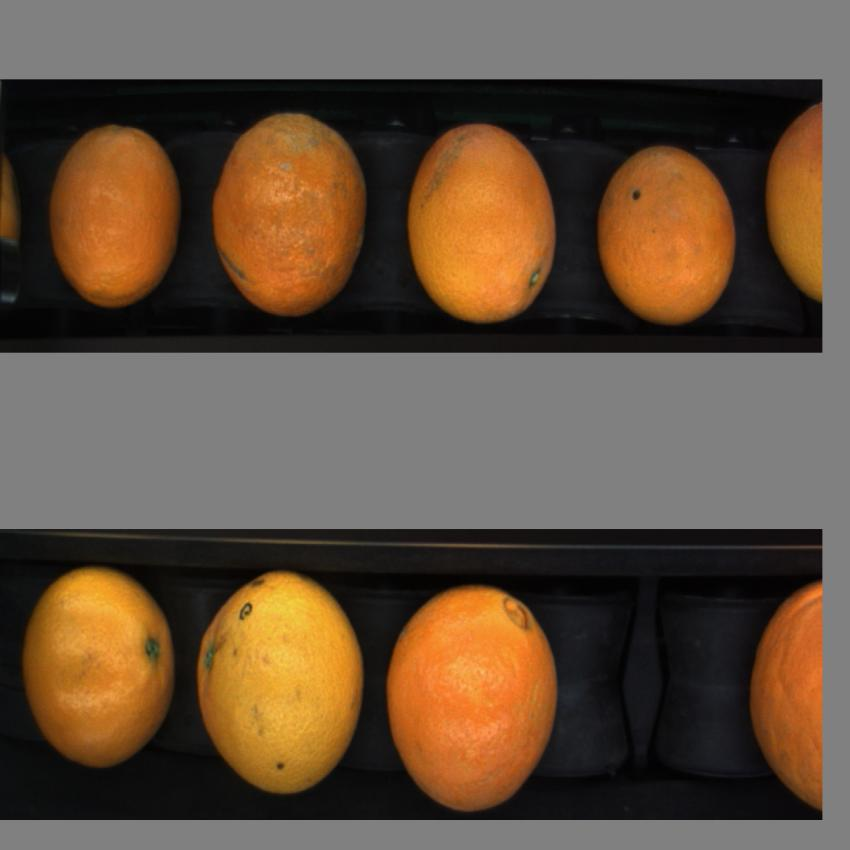Buen estado: (385, 581, 580, 801), (193, 566, 366, 798), (401, 121, 569, 326), (19, 571, 182, 771), (590, 127, 747, 320), (48, 122, 182, 315), (742, 572, 822, 809), (763, 106, 822, 306)
Mal estado: (206, 110, 374, 321)
